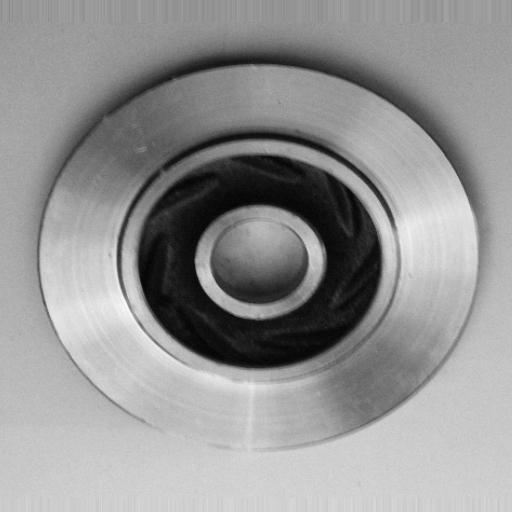polished_casting: (35, 58, 483, 456)
